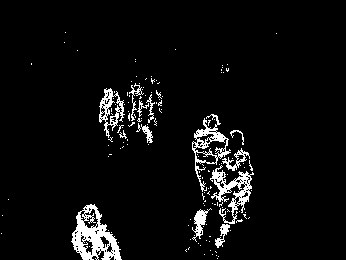person: (216, 129, 255, 247), (192, 116, 228, 235), (72, 203, 125, 260), (129, 76, 162, 144), (99, 82, 127, 151)
